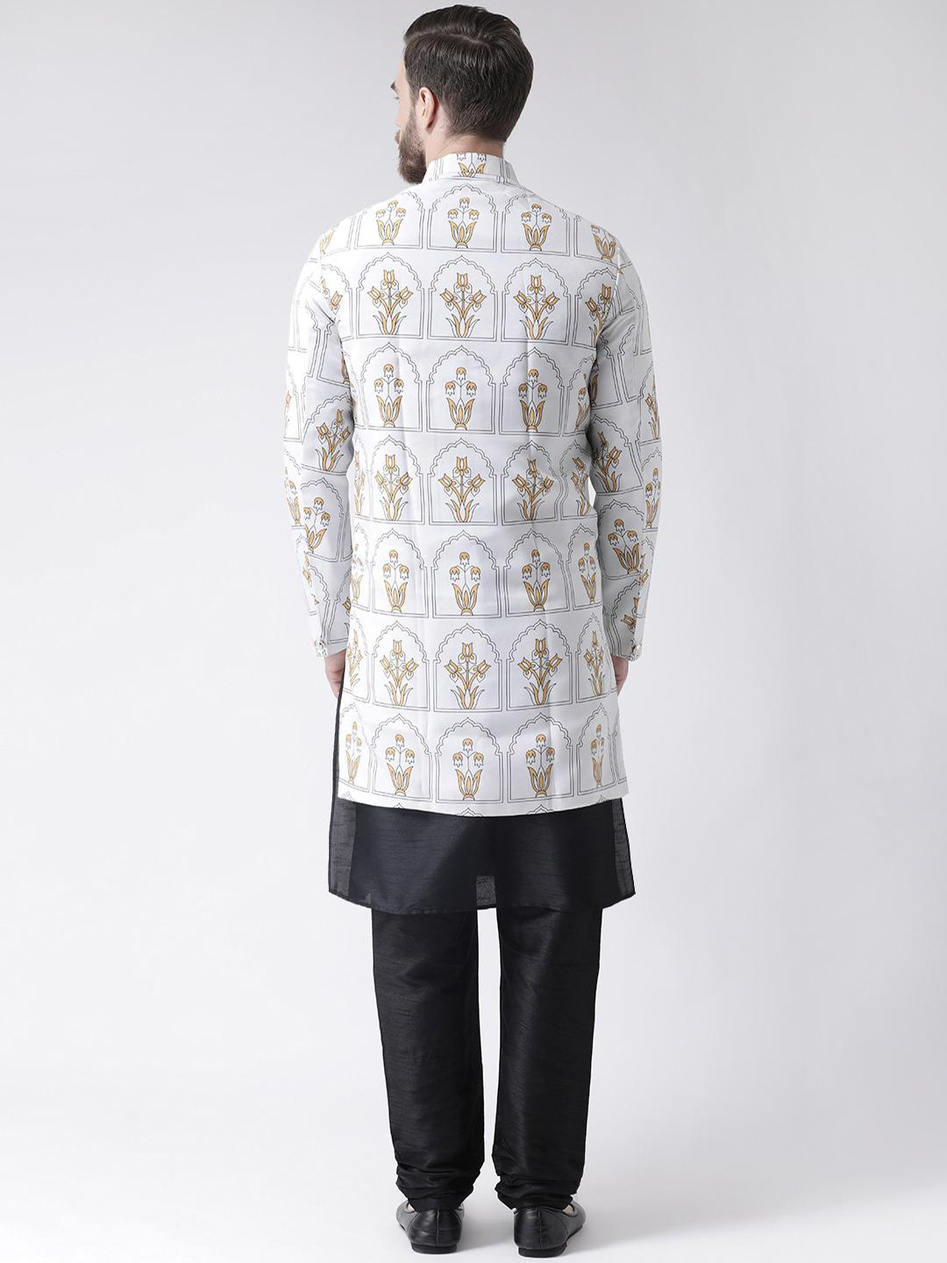Desgin sherwani: (275, 153, 664, 826)
